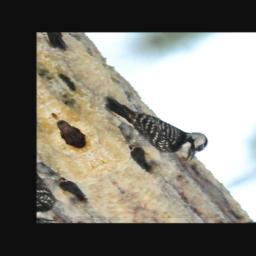Woodpecker: (90, 75, 219, 178)
